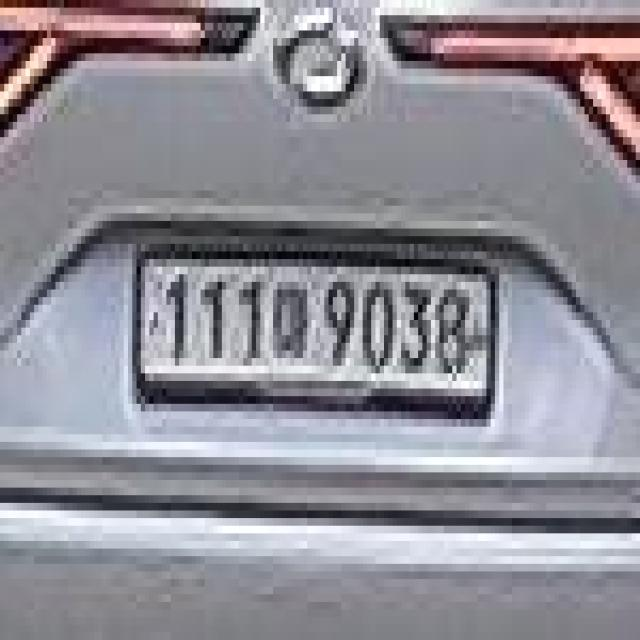illegal_plate: (132, 234, 504, 428)
